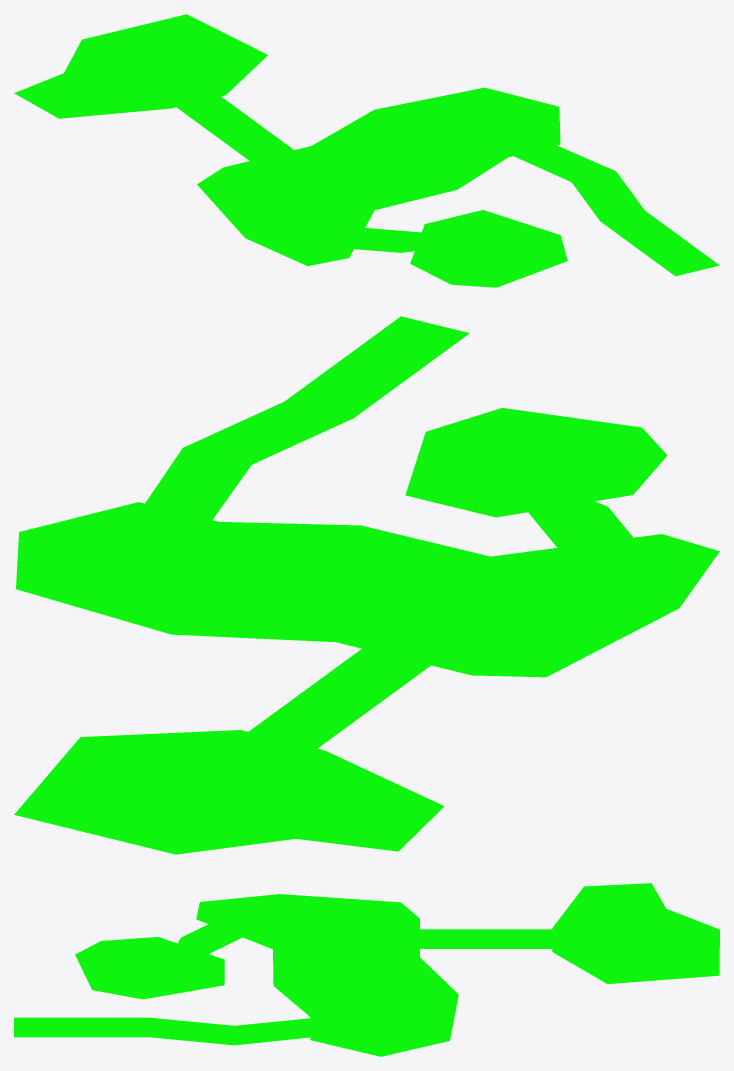
Rendered from s05b_ic3-floor.glb.
3 renders of one model, top to bottom at view 1: azimuth 30°, elevation 25°; view 2: azimuth 150°, elevation 25°; view 3: azimuth 270°, elevation 25°, orthographic. The views are drawn at different scales.
Parts seen in each view (by area): view 1: collision_floor-colonly; view 2: collision_floor-colonly; view 3: collision_floor-colonly.
Boxes of the visible parts, left/top/right/bottom form: collision_floor-colonly: left=14, top=14, right=719, bottom=287; collision_floor-colonly: left=14, top=316, right=719, bottom=854; collision_floor-colonly: left=14, top=883, right=719, bottom=1056.
Size of the model in its own units: 53.15 by 0.1016 by 91.26.
